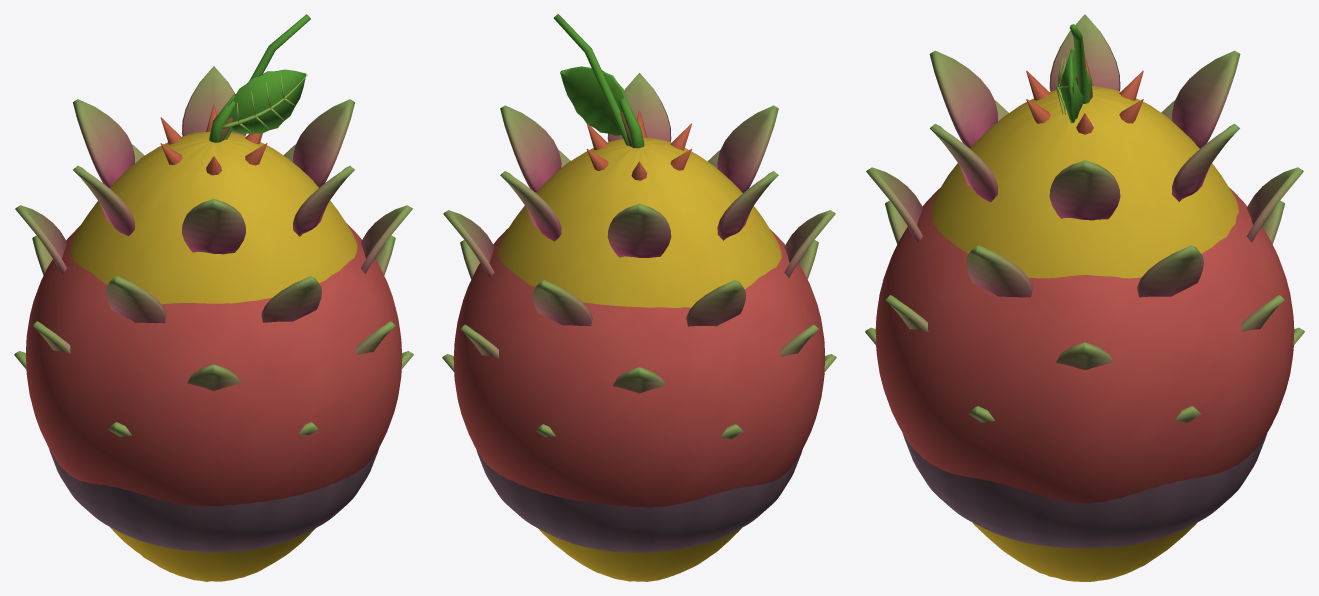
The model's file is typeslasher-market-pack.glb.
3 renders of one model, left to right at view 1: azimuth 30°, elevation 25°; view 2: azimuth 150°, elevation 25°; view 3: azimuth 270°, elevation 25°, orthographic. The views are drawn at different scales.
Parts seen in each view (by area): view 1: food_pomegranate Painted market sculpted skin, food_lemon Painted market sculpted skin, food_dragonfruit Painted market sculpted skin, food_fig Painted market sculpted skin, food_lemon Leaf green, food_pomegranate Pomegranate russet crown, food_cherry Leaf green, food_lemon Leaf vein; view 2: food_pomegranate Painted market sculpted skin, food_lemon Painted market sculpted skin, food_dragonfruit Painted market sculpted skin, food_fig Painted market sculpted skin, food_lemon Leaf green, food_pomegranate Pomegranate russet crown, food_cherry Leaf green; view 3: food_pomegranate Painted market sculpted skin, food_lemon Painted market sculpted skin, food_dragonfruit Painted market sculpted skin, food_fig Painted market sculpted skin, food_pomegranate Pomegranate russet crown, food_lemon Leaf green, food_cherry Leaf green.
Boxes of the visible parts, box(x1,y1,x2,y2) form: food_pomegranate Painted market sculpted skin: box(26, 223, 401, 506); food_lemon Painted market sculpted skin: box(70, 131, 357, 581); food_dragonfruit Painted market sculpted skin: box(14, 66, 413, 437); food_fig Painted market sculpted skin: box(49, 447, 379, 552); food_lemon Leaf green: box(209, 69, 306, 142); food_pomegranate Pomegranate russet crown: box(160, 104, 267, 175); food_cherry Leaf green: box(224, 14, 310, 139); food_lemon Leaf vein: box(222, 74, 307, 132); food_pomegranate Painted market sculpted skin: box(453, 228, 825, 507); food_lemon Painted market sculpted skin: box(497, 137, 781, 581); food_dragonfruit Painted market sculpted skin: box(442, 73, 836, 439); food_fig Painted market sculpted skin: box(476, 449, 802, 552); food_lemon Leaf green: box(560, 66, 644, 148); food_pomegranate Pomegranate russet crown: box(586, 110, 691, 180); food_cherry Leaf green: box(553, 14, 629, 145); food_pomegranate Painted market sculpted skin: box(875, 187, 1294, 503); food_lemon Painted market sculpted skin: box(932, 86, 1238, 581); food_dragonfruit Painted market sculpted skin: box(865, 14, 1304, 422); food_fig Painted market sculpted skin: box(902, 433, 1267, 548); food_pomegranate Pomegranate russet crown: box(1026, 56, 1143, 134); food_lemon Leaf green: box(1060, 49, 1092, 123); food_cherry Leaf green: box(1069, 24, 1089, 103).
Bounding box in the file's own units: 1.98 × 2.85 × 1.89.
